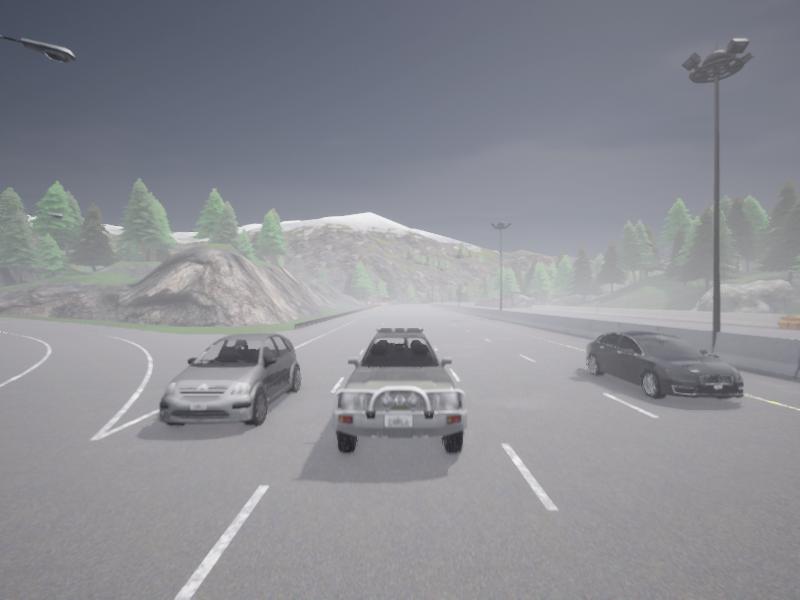vehicle: (332, 327, 467, 453), (159, 333, 300, 425), (586, 330, 743, 398)
